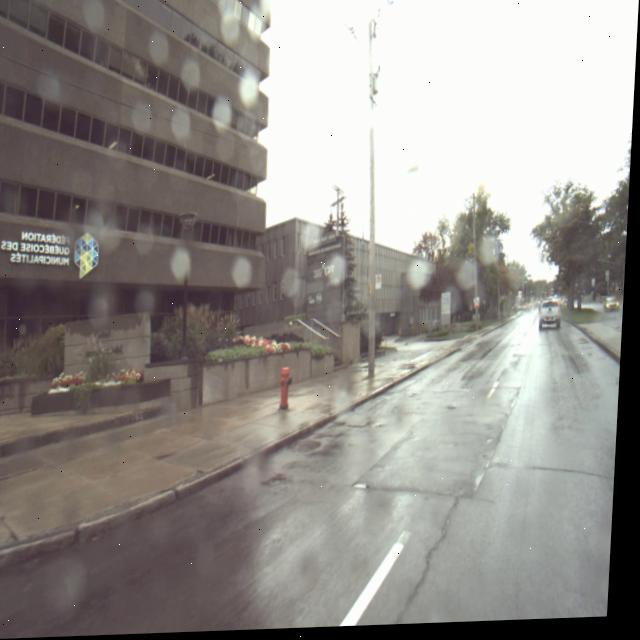car: (542, 305, 566, 335), (607, 302, 623, 316)
